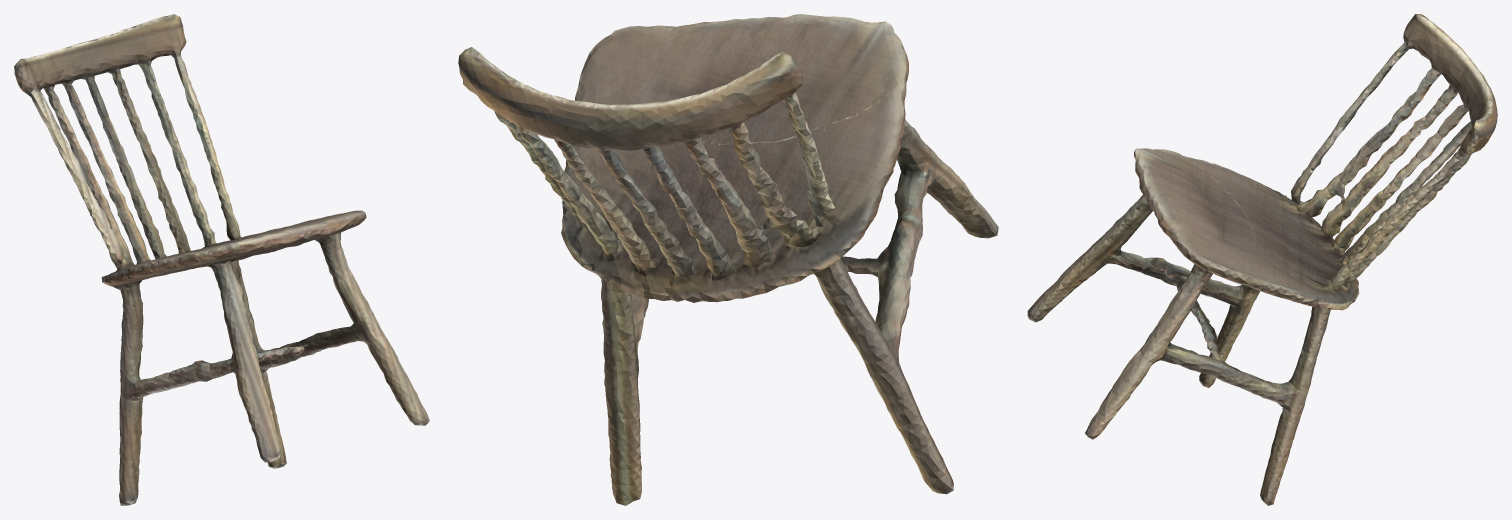
3 renders of one model, left to right at view 1: azimuth 30°, elevation 25°; view 2: azimuth 150°, elevation 25°; view 3: azimuth 270°, elevation 25°, orthographic. The views are drawn at different scales.
Visible parts, largest first — view 1: world; view 2: world; view 3: world.
Part boxes in pixels (x1,y1,x2,y2): world: [14, 14, 429, 505]; world: [458, 14, 998, 505]; world: [1027, 14, 1497, 505].
Size of the model in its own units: 0.6163 by 0.9334 by 0.9912.
1 material, 1 textured.
